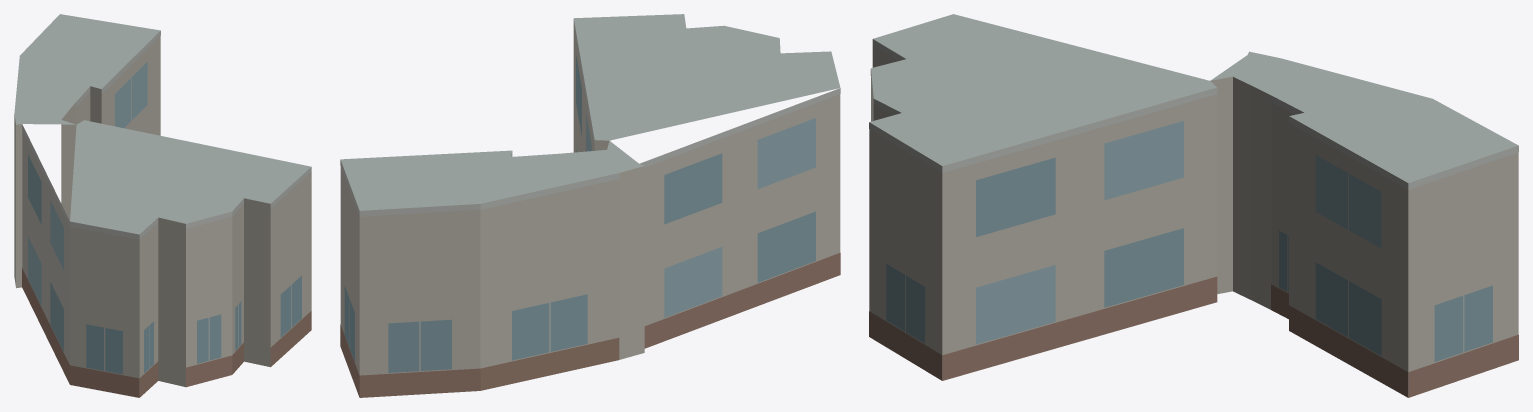
The model's file is survey-upis-32664604.glb.
The picture shows the model from 3 angles, left to right: view 1: azimuth 30°, elevation 25°; view 2: azimuth 150°, elevation 25°; view 3: azimuth 270°, elevation 25°; orthographic projection. The views are drawn at different scales.
Visible parts, largest first — view 1: survey-upis-32664604.tmp; view 2: survey-upis-32664604.tmp; view 3: survey-upis-32664604.tmp.
Boxes of the visible parts, bbox=[...] form: survey-upis-32664604.tmp: bbox=[14, 14, 311, 397]; survey-upis-32664604.tmp: bbox=[340, 14, 840, 397]; survey-upis-32664604.tmp: bbox=[869, 14, 1518, 397].
Size of the model in its own units: 13.02 by 7.7 by 21.12.
